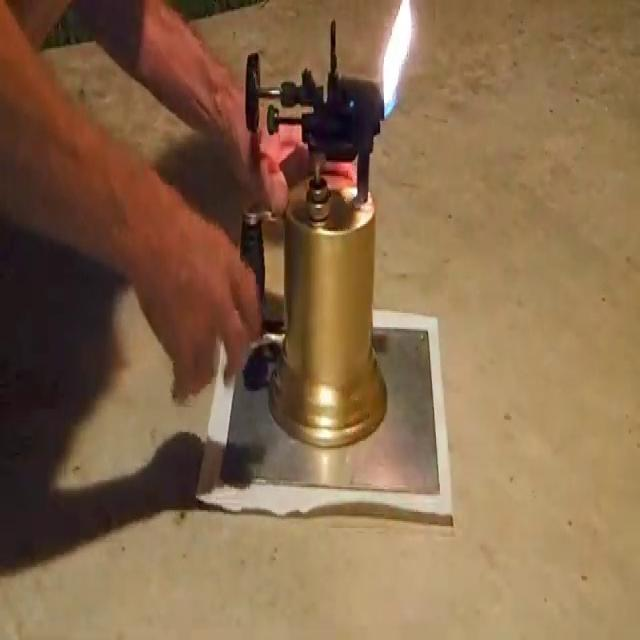fire: (371, 2, 426, 130)
